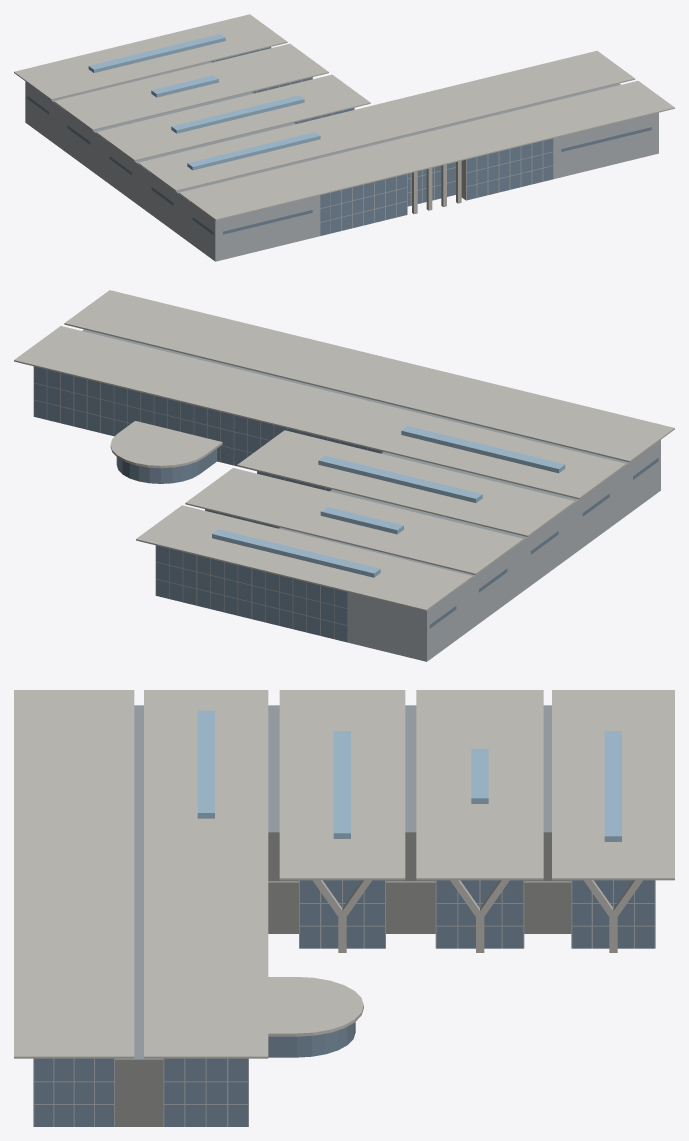
File: dal-modern-art-museum.glb
3 views of the same model, one above another, from view 1: azimuth 30°, elevation 25°; view 2: azimuth 150°, elevation 25°; view 3: azimuth 270°, elevation 25° (orthographic). The views are drawn at different scales.
Visible parts, largest first — view 1: Modern Art Museum of Fort Worth; view 2: Modern Art Museum of Fort Worth; view 3: Modern Art Museum of Fort Worth.
Part boxes in pixels (box(x1,y1,x2,y2)): Modern Art Museum of Fort Worth: box(14, 14, 674, 261); Modern Art Museum of Fort Worth: box(14, 290, 674, 661); Modern Art Museum of Fort Worth: box(14, 690, 674, 1126).
Size of the model in its own units: 126 by 13.4 by 95.6.
